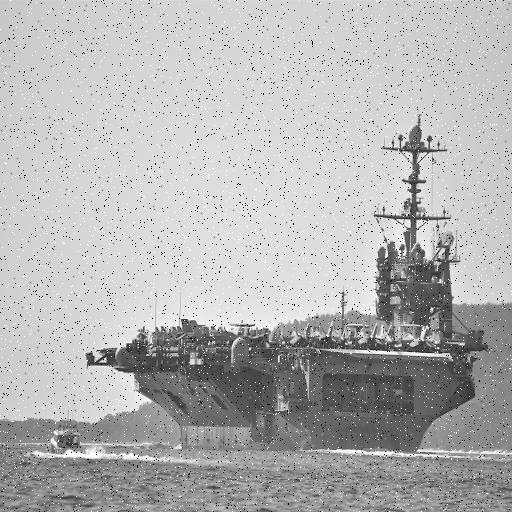Portanaves: (83, 95, 492, 459)
